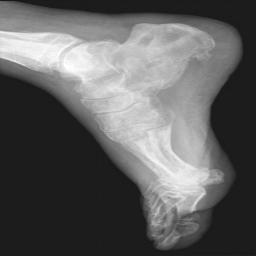cancer: (100, 23, 215, 97)
